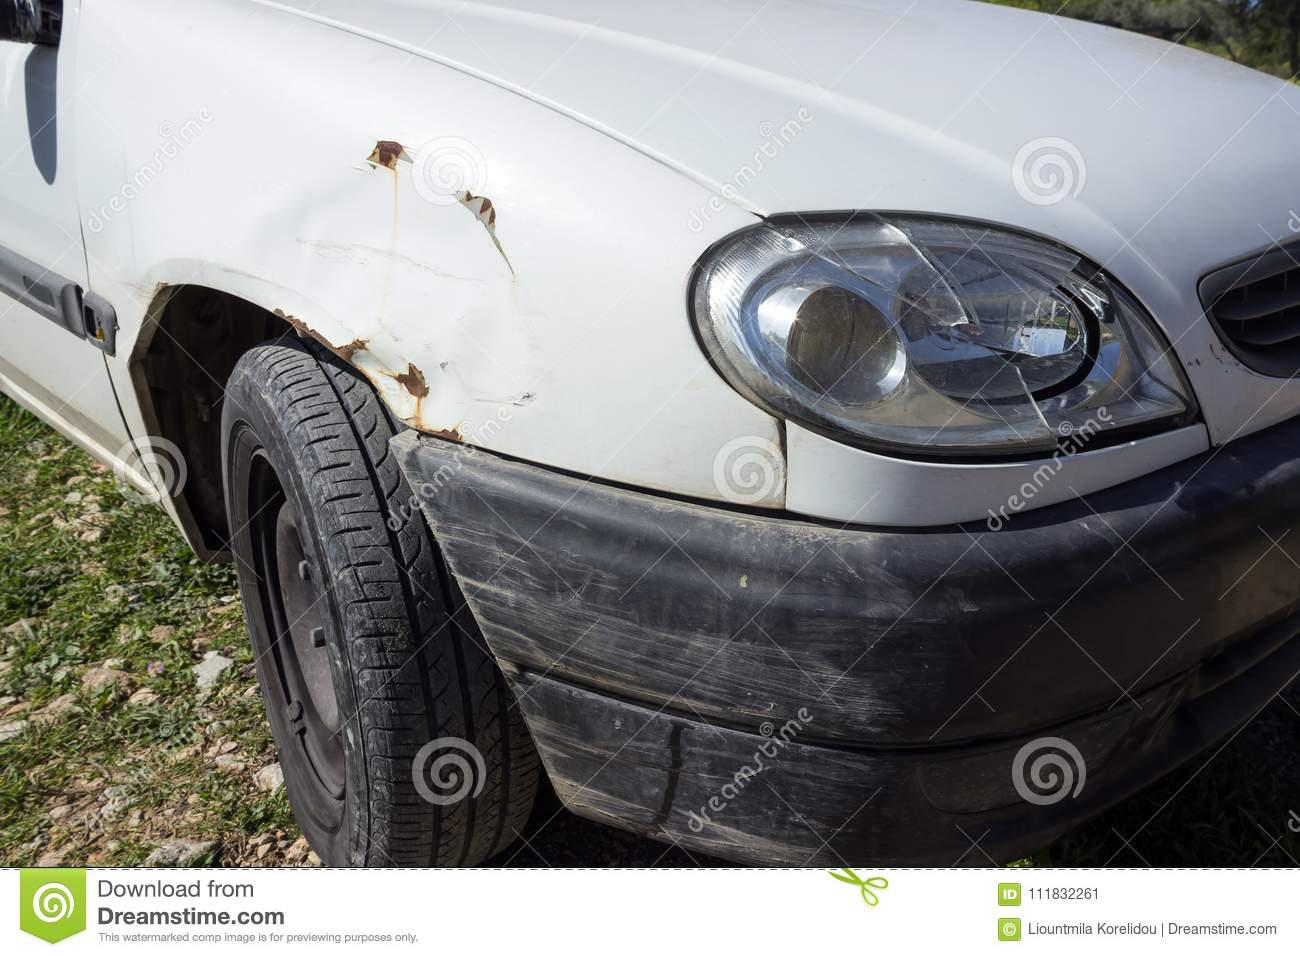Headlight-Damage: (662, 190, 1219, 492)
fender-dent: (79, 104, 705, 522)
